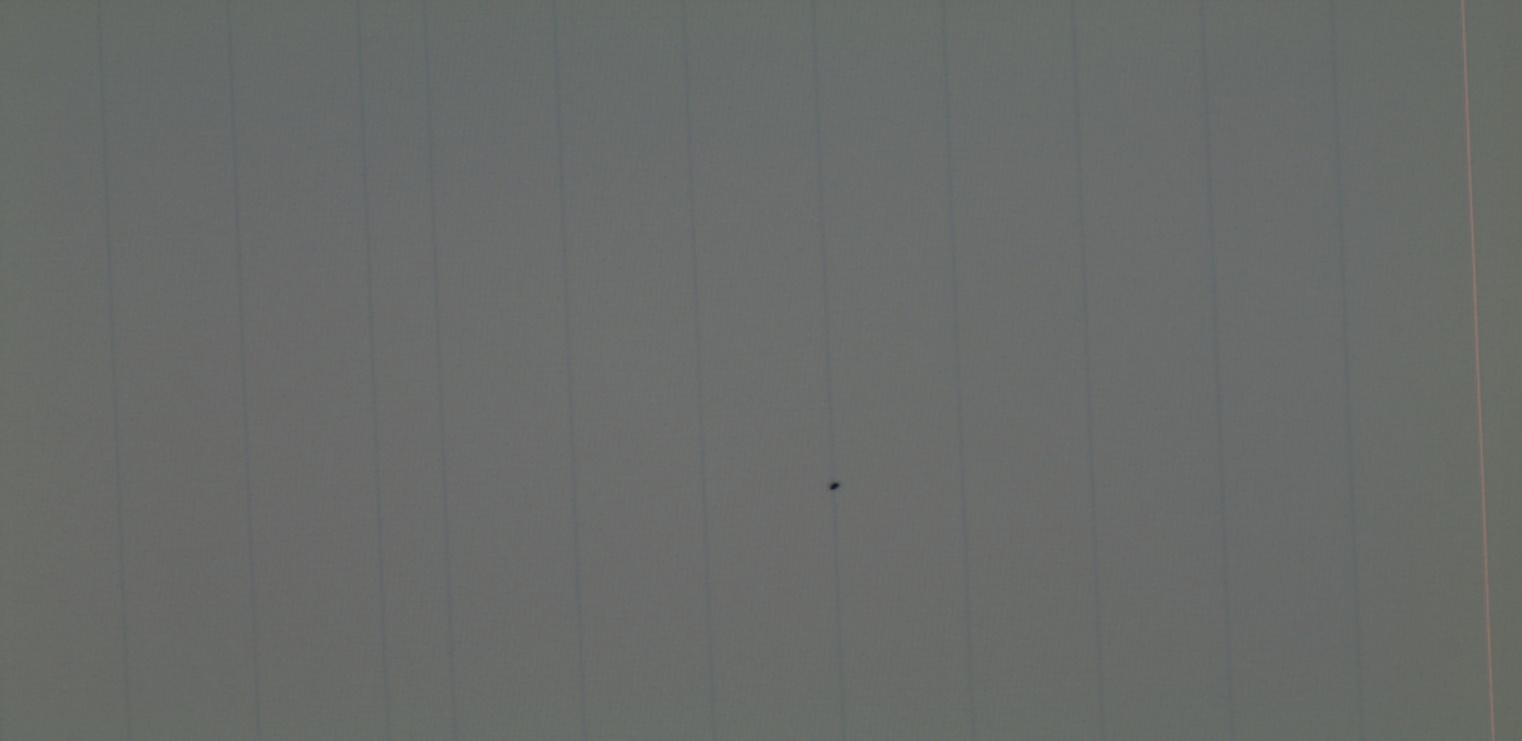PIQ PARTICLE: (808, 467, 852, 511)
